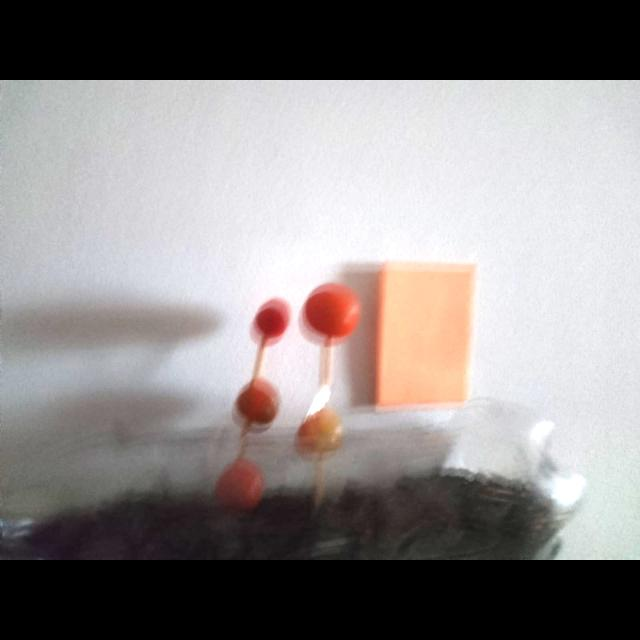card: (375, 262, 474, 407)
fruit_maturation: (297, 407, 343, 455)
fully_grown: (303, 283, 360, 339), (235, 378, 279, 428), (254, 300, 289, 338)
